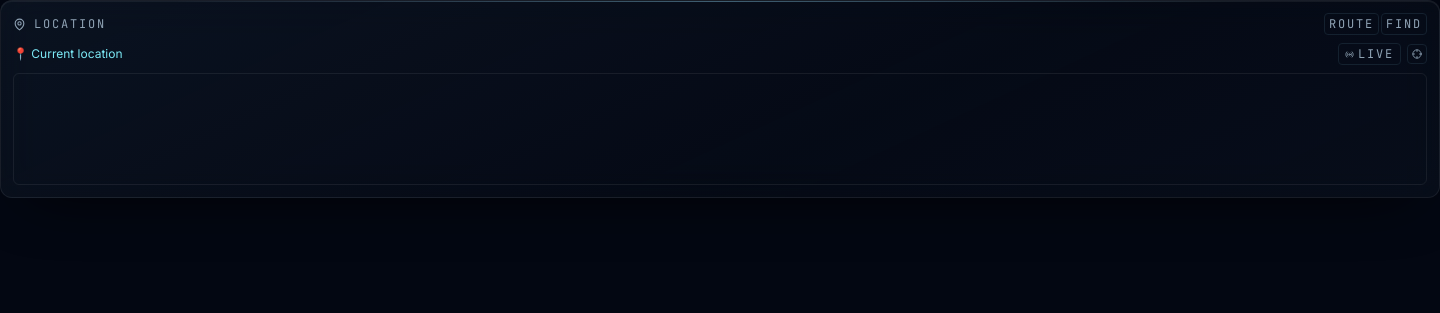
Test case: autocomplete › renders suggestions and lets one be picked
This screenshot has width=1440, height=313.
Click the button with test id "map-mode-route".
click(1352, 24)  # box left=1324, top=13, right=1379, bottom=35
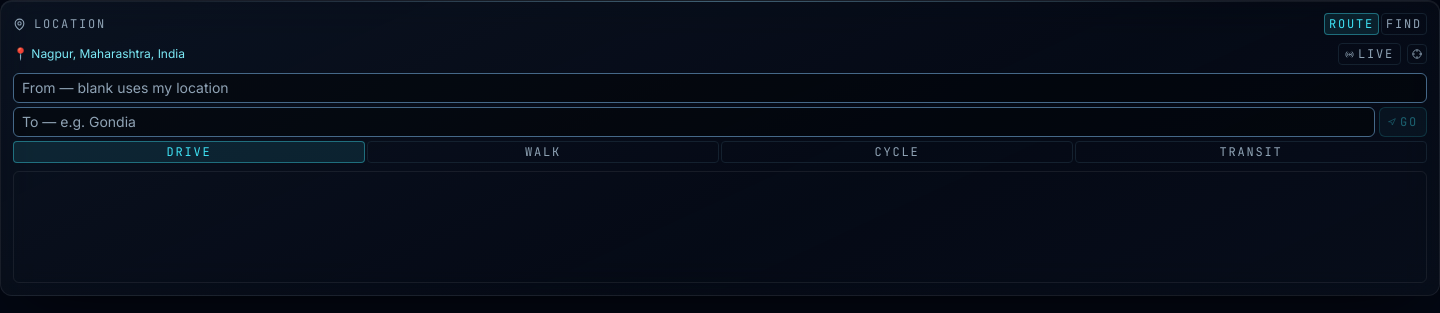
Result: the field with test id "map-to" is shown
Type "Gondia" into the field with test id "map-to".
click(694, 122); type("Gondia")  # box left=13, top=107, right=1375, bottom=137
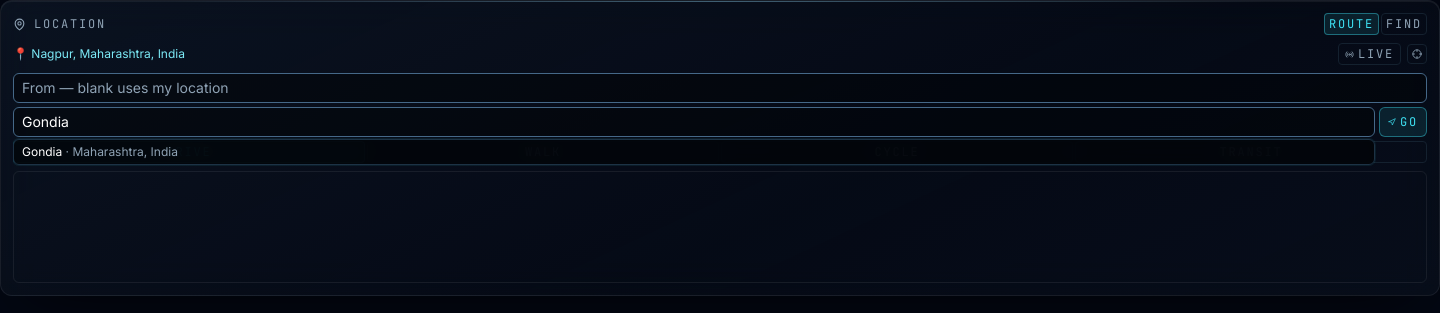
Result: the list with test id "map-to-suggestions" is shown at left=13, top=139, right=1375, bottom=165
Press the mouse on the text "Gondia" at (42, 152), box left=22, top=144, right=62, bottom=159
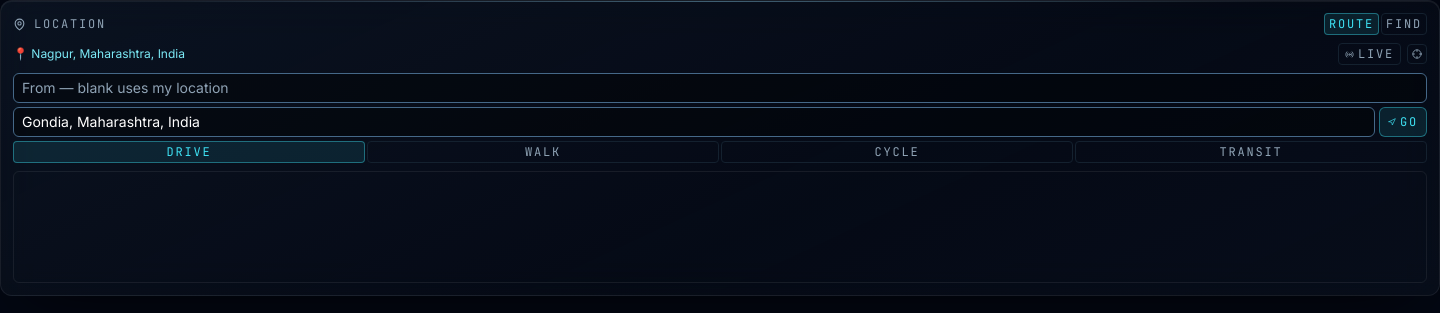
Result: the field with test id "map-to" holds "Gondia, Maharashtra, India" at left=13, top=107, right=1375, bottom=137
Result: the list with test id "map-to-suggestions" is gone
